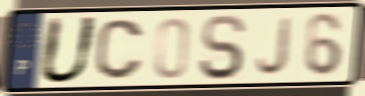0: (153, 15, 191, 81)
6: (302, 11, 345, 80)
C: (93, 16, 146, 82)
J: (254, 14, 296, 77)
S: (197, 11, 249, 82)
U: (36, 15, 102, 87)
